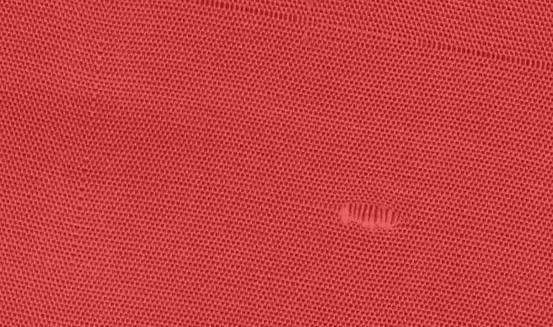slub: (334, 194, 413, 237)
